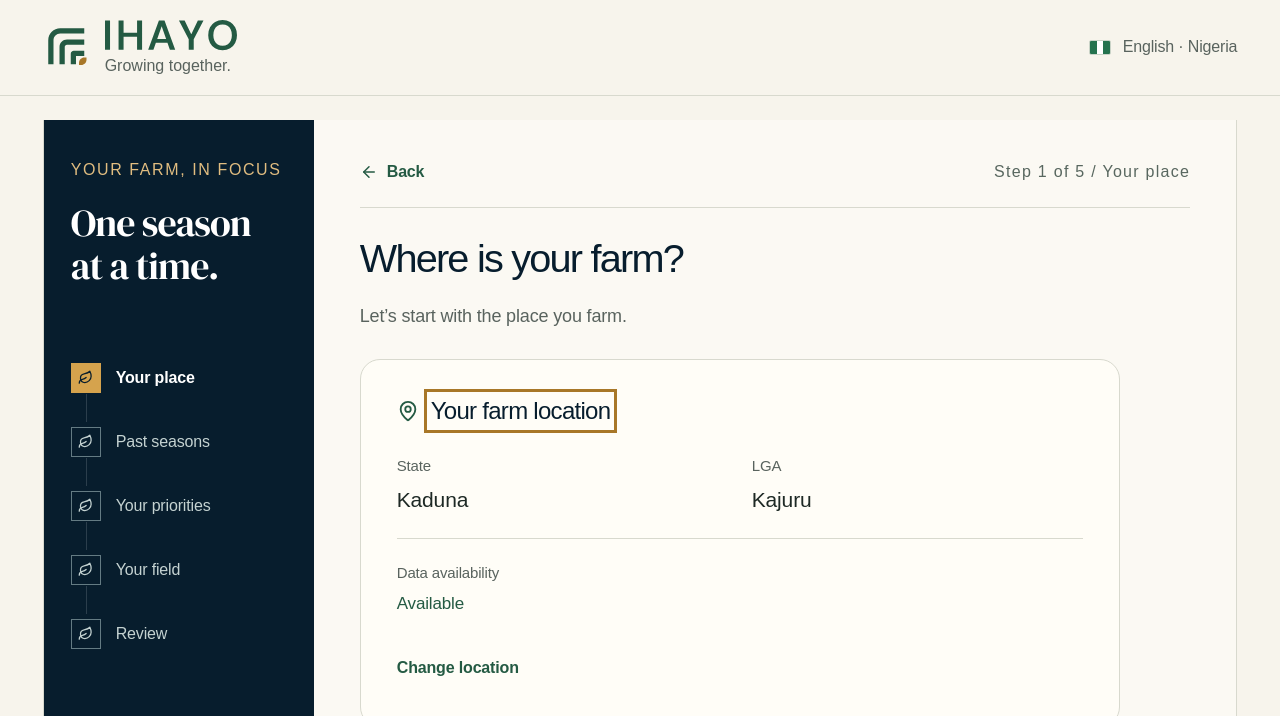
Scenario: Back cancels a pending confirmation and duplicate clicks cannot skip crop history
Earlier steps of the test are not shown.
Click the button "Back": (392, 172) [360,150,424,194]
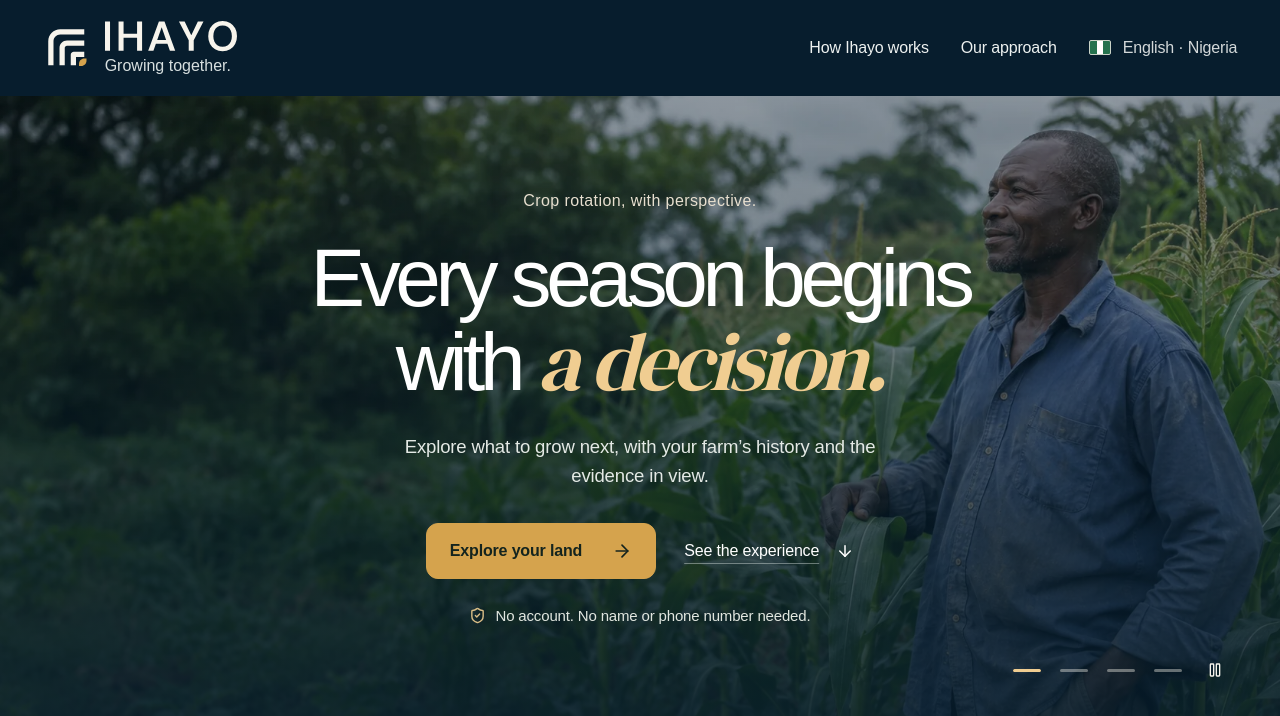
Expected: the heading "Every season begins with a decision." is shown, [276,237,1004,404]
Click the button "Explore your land": (541, 551) [426,523,656,579]
(page scrolled)
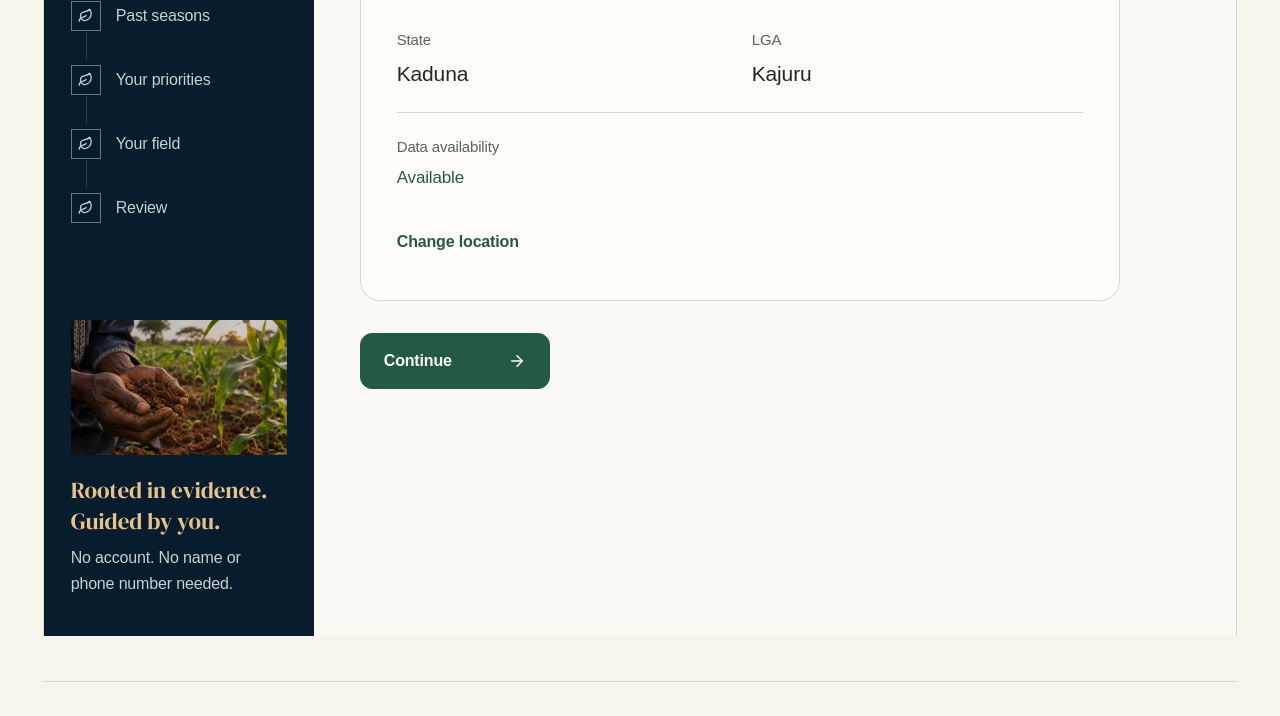
Expected: the button "Continue" is shown, [360,333,550,389]
